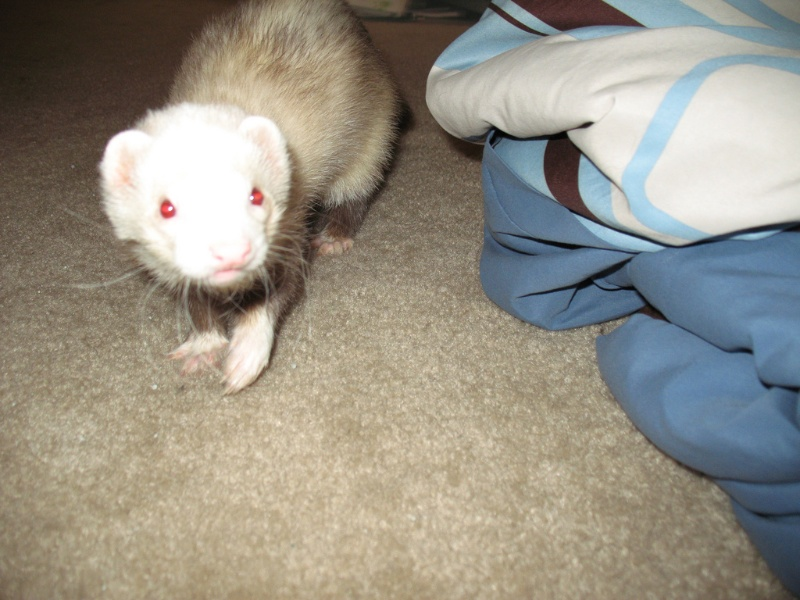minkish: (93, 1, 424, 405)
